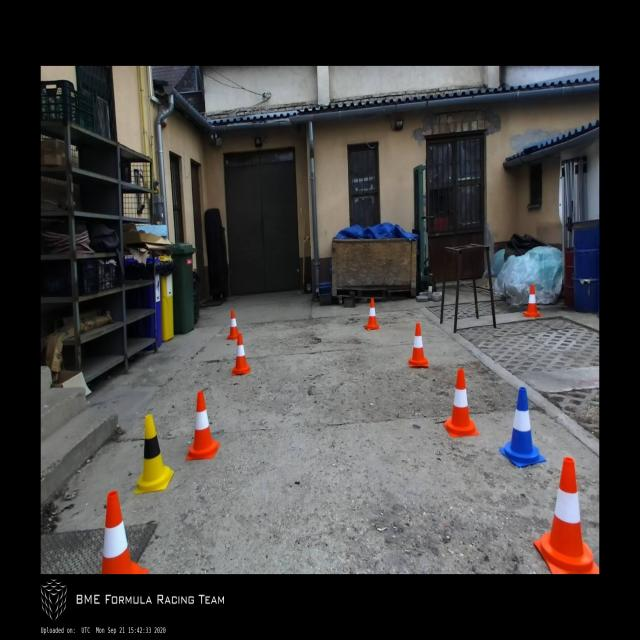blue_cone: (499, 387, 546, 468)
orange_cone: (533, 457, 599, 574), (101, 490, 149, 574), (443, 369, 479, 437), (186, 392, 220, 460), (408, 322, 428, 367), (232, 334, 250, 376), (522, 285, 542, 317), (365, 298, 380, 330), (226, 310, 238, 340)
yellow_cone: (134, 414, 174, 494)
